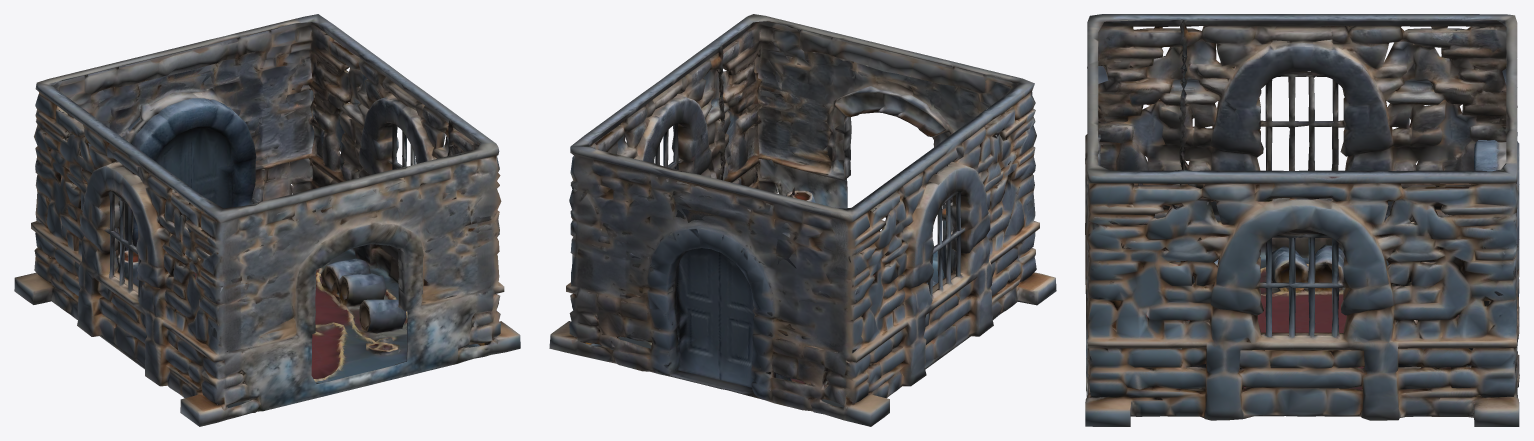
File: room_rect-web.glb
3 renders of one model, left to right at view 1: azimuth 30°, elevation 25°; view 2: azimuth 150°, elevation 25°; view 3: azimuth 270°, elevation 25°, orthographic. The views are drawn at different scales.
Size of the model in its own units: 2 by 1.25 by 2.
Materials: 1 (1 with a texture image).
